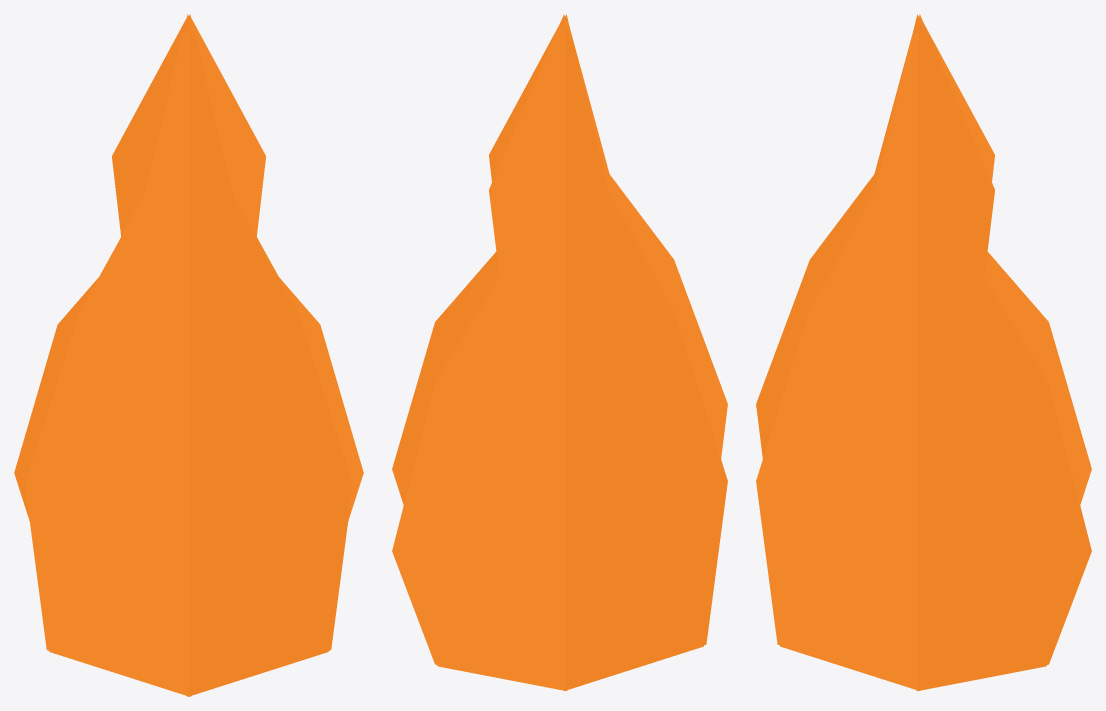
The model's file is flame_card.glb.
3 renders of one model, left to right at view 1: azimuth 30°, elevation 25°; view 2: azimuth 150°, elevation 25°; view 3: azimuth 270°, elevation 25°, orthographic.
Parts seen in each view (by area): view 1: flame_card; view 2: flame_card; view 3: flame_card.
Part boxes in pixels (left/top/right/bottom): flame_card: left=14, top=14, right=363, bottom=696; flame_card: left=392, top=14, right=727, bottom=690; flame_card: left=756, top=14, right=1091, bottom=690.
Size of the model in its own units: 0.31 by 0.6 by 0.2705.
